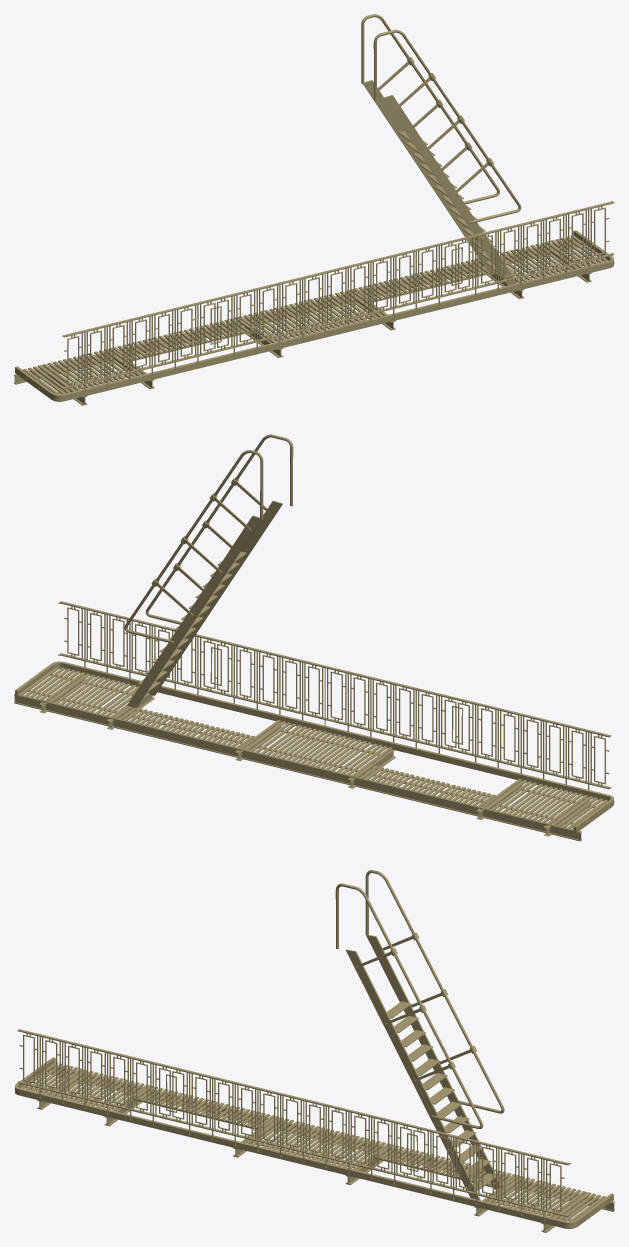
Rendered from FireEs.obj.
3 renders of one model, top to bottom at view 1: azimuth 30°, elevation 25°; view 2: azimuth 150°, elevation 25°; view 3: azimuth 330°, elevation 25°, orthographic.
Visible parts, largest first — view 1: FireEscape; view 2: FireEscape; view 3: FireEscape.
Part boxes in pixels (bbox=[...]): FireEscape: bbox=[14, 14, 614, 405]; FireEscape: bbox=[14, 434, 614, 841]; FireEscape: bbox=[14, 870, 614, 1232].
Size of the model in its own units: 990 by 495 by 131.
